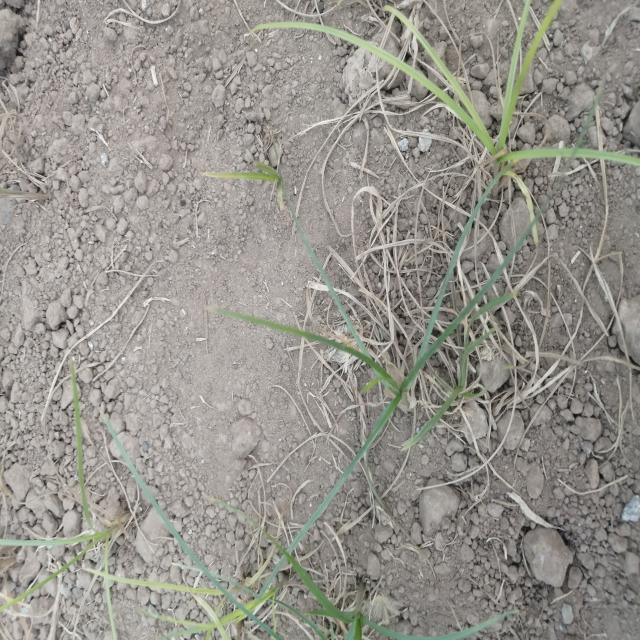sedge: (210, 196, 573, 527)
